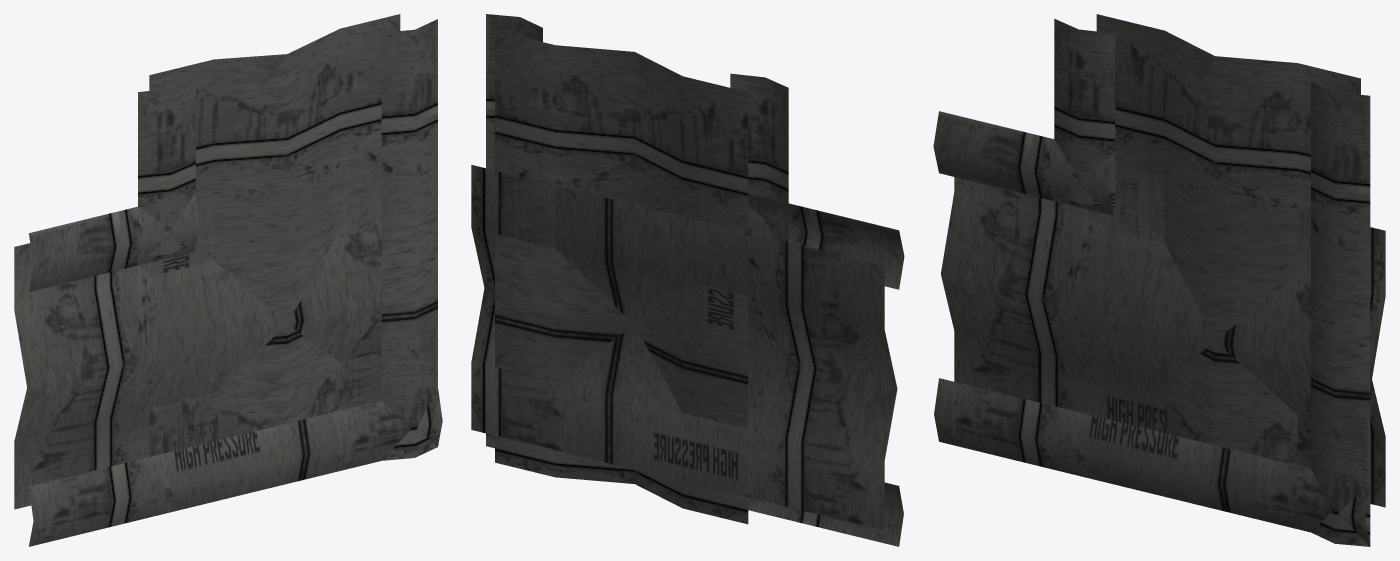
The model's file is p6_pipes_blackout_128_l_01_lod1.glb.
3 views of the same model, side by side, from view 1: azimuth 30°, elevation 25°; view 2: azimuth 150°, elevation 25°; view 3: azimuth 330°, elevation 25° (orthographic). The views are drawn at different scales.
Visible parts, largest first — view 1: surf0; view 2: surf0; view 3: surf0.
Boxes of the visible parts, x1=… form: surf0: x1=14, y1=14, x2=442, y2=546; surf0: x1=471, y1=14, x2=904, y2=546; surf0: x1=933, y1=14, x2=1385, y2=546.
Size of the model in its own units: 101 by 101 by 8.47.
